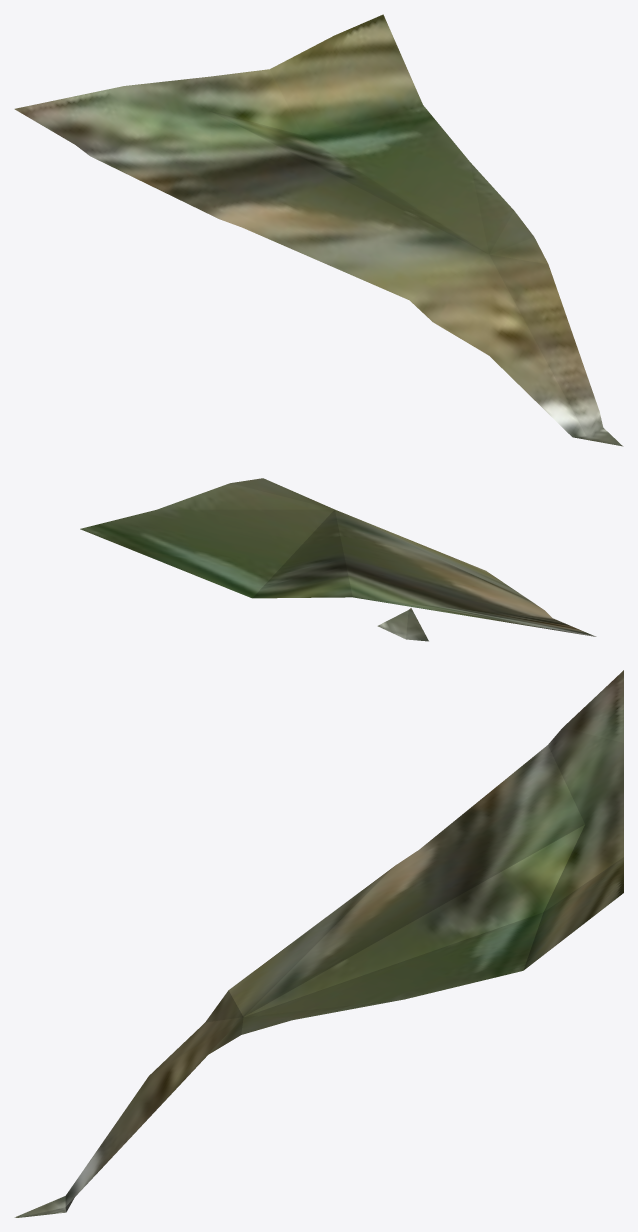
3 views of the same model, one above another, from view 1: azimuth 30°, elevation 25°; view 2: azimuth 150°, elevation 25°; view 3: azimuth 270°, elevation 25° (orthographic). The views are drawn at different scales.
Size of the model in its own units: 1.49 by 0.9851 by 1.68.
1 material, 1 textured.
